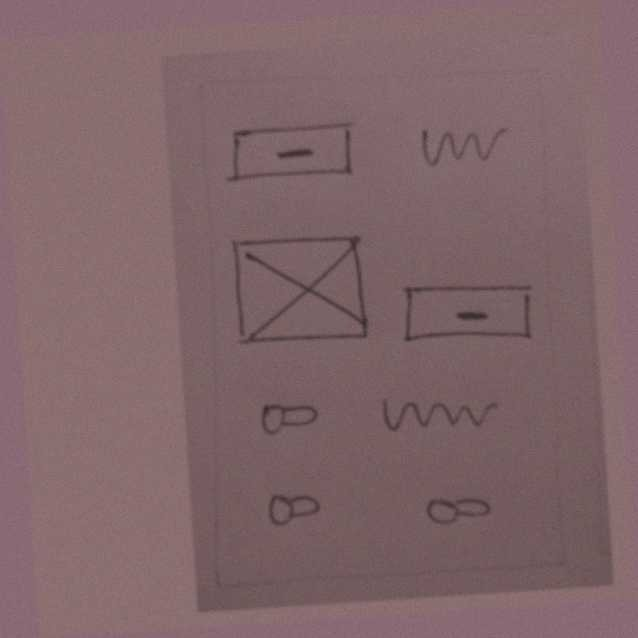button: (389, 269, 542, 355), (218, 116, 362, 190)
image: (223, 225, 378, 354)
switch: (422, 483, 499, 534), (260, 481, 339, 530), (250, 397, 326, 441)
text: (371, 383, 507, 442), (409, 111, 519, 178)
